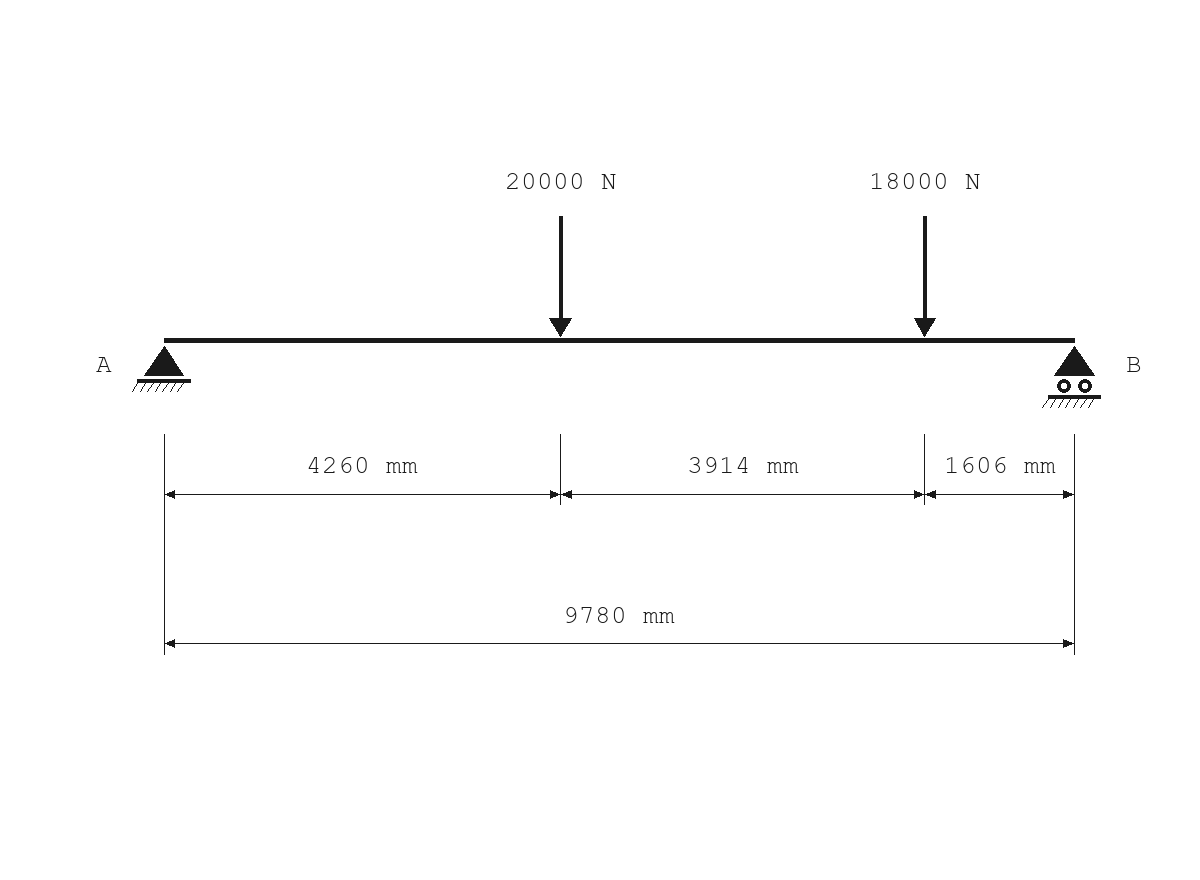pin_support: (132, 346, 191, 392)
point_load: (549, 216, 572, 337), (914, 216, 936, 337)
roller_support: (1042, 346, 1101, 408)
